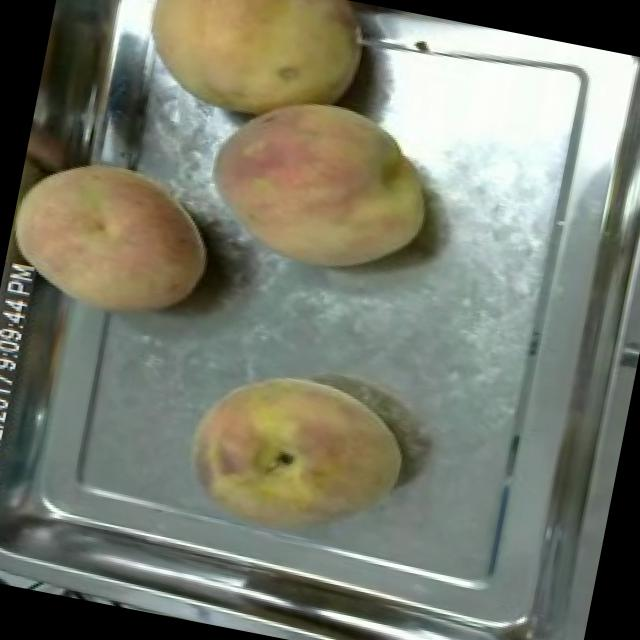Fruit: (190, 71, 452, 294), (168, 348, 424, 564), (0, 135, 232, 339), (120, 0, 381, 149)
